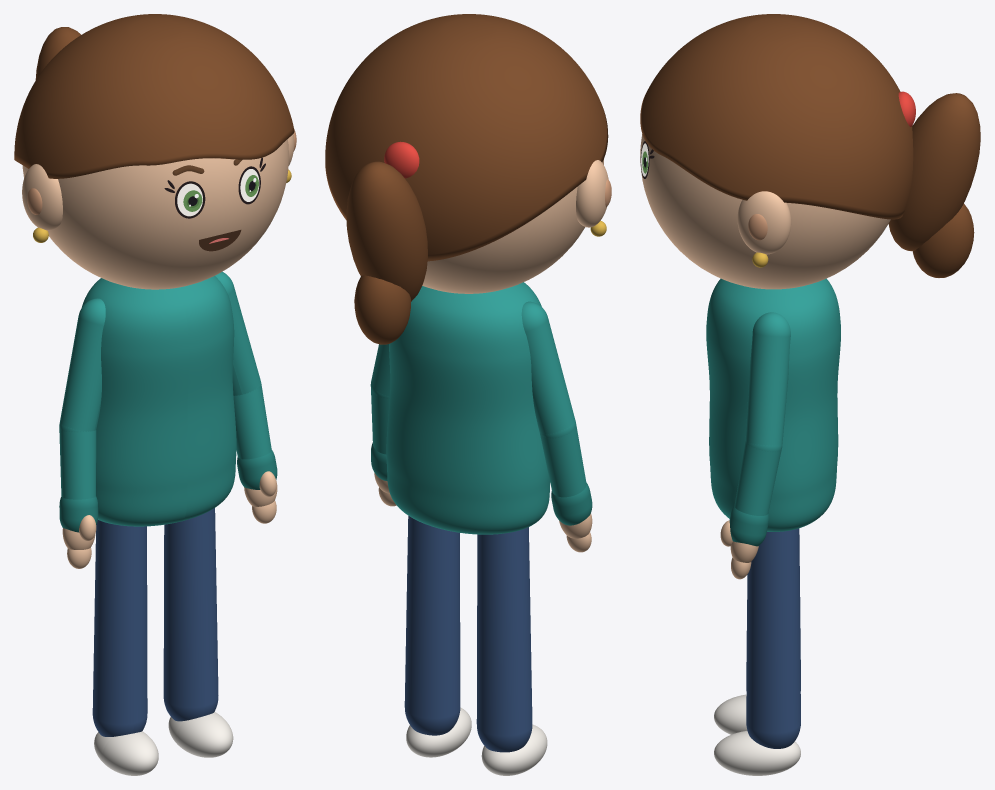
File: mama.glb
3 renders of one model, left to right at view 1: azimuth 30°, elevation 25°; view 2: azimuth 150°, elevation 25°; view 3: azimuth 270°, elevation 25°, orthographic.
Visible parts, largest first — view 1: mama_haar, mama_romp, mama_hoofd, mama_been_R, mama_been_L, mama_bovenarm_R, mama_onderarm_R, mama_schoen_R, mama_schoen_L, mama_onderarm_L, mama_bovenarm_L, mama_oor_R (+4 smaller); view 2: mama_haar, mama_romp, mama_been_R, mama_been_L, mama_staart, mama_hoofd, mama_bovenarm_R, mama_staart_punt, mama_onderarm_R, mama_schoen_R, mama_schoen_L, mama_oor_R (+4 smaller); view 3: mama_haar, mama_romp, mama_hoofd, mama_been_L, mama_staart, mama_bovenarm_L, mama_staart_punt, mama_schoen_L, mama_onderarm_L, mama_oor_L, mama_manchet_L, mama_schoen_R.
Boxes of the visible parts, box(x1,y1,x2,y2) form: mama_haar: box(14, 14, 294, 178); mama_romp: box(82, 276, 236, 526); mama_hoofd: box(22, 139, 288, 289); mama_been_R: box(92, 520, 147, 736); mama_been_L: box(163, 508, 218, 721); mama_bovenarm_R: box(60, 298, 105, 431); mama_onderarm_R: box(59, 425, 96, 499); mama_schoen_R: box(94, 731, 158, 775); mama_schoen_L: box(168, 712, 233, 757); mama_onderarm_L: box(233, 384, 271, 459); mama_bovenarm_L: box(215, 271, 260, 395); mama_oor_R: box(22, 164, 62, 230); mama_haar: box(325, 14, 608, 261); mama_romp: box(386, 282, 549, 534); mama_been_R: box(476, 527, 532, 752); mama_been_L: box(404, 516, 460, 735); mama_staart: box(346, 161, 427, 301); mama_hoofd: box(422, 159, 603, 293); mama_bovenarm_R: box(521, 301, 575, 437); mama_staart_punt: box(354, 275, 410, 344); mama_onderarm_R: box(540, 424, 586, 497); mama_schoen_R: box(481, 724, 547, 775); mama_schoen_L: box(406, 707, 471, 757); mama_oor_R: box(576, 160, 608, 227); mama_haar: box(640, 14, 913, 219); mama_romp: box(706, 278, 840, 531); mama_hoofd: box(640, 134, 890, 289); mama_been_L: box(746, 528, 800, 748); mama_staart: box(888, 93, 980, 251); mama_bovenarm_L: box(745, 312, 790, 451); mama_staart_punt: box(912, 203, 974, 277); mama_schoen_L: box(714, 731, 800, 775); mama_onderarm_L: box(734, 441, 781, 515); mama_oor_L: box(737, 191, 791, 254); mama_manchet_L: box(729, 505, 768, 546); mama_schoen_R: box(714, 694, 747, 734).
Size of the model in its own units: 0.668 by 1.75 by 0.7425.
